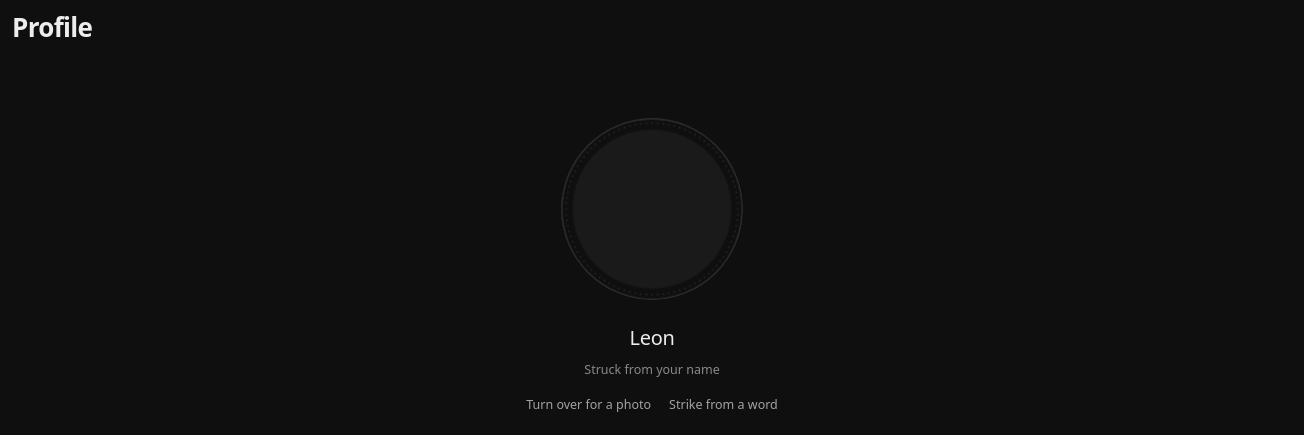
Test: profile settings › explains the tried word on the coin itself behind the "?", only while trying
Click the button "Strike from a word" at {"x": 723, "y": 404}, box [661, 393, 786, 416]
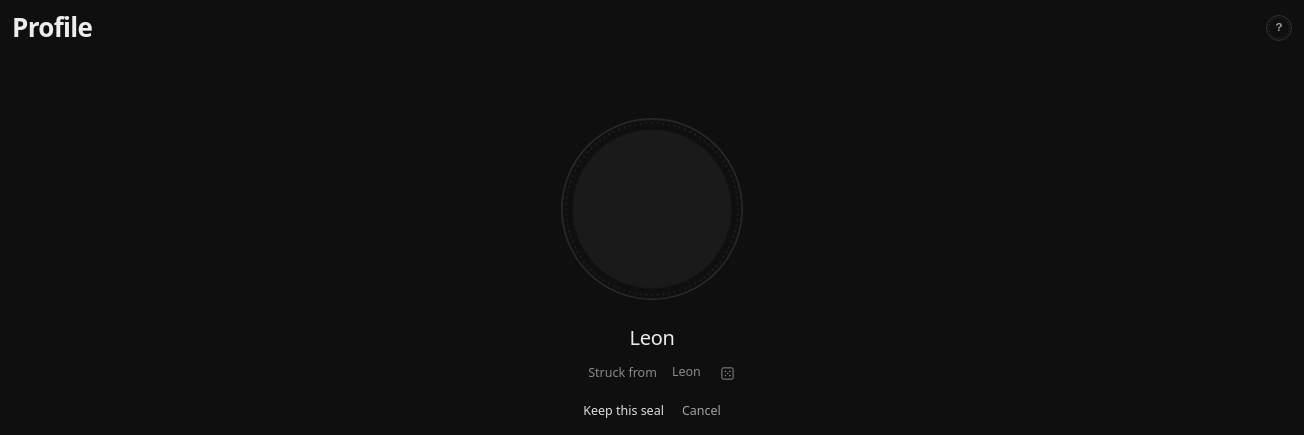
Type "harbor" into the field labelled "Struck from" at {"x": 686, "y": 373}, box [665, 363, 708, 383]
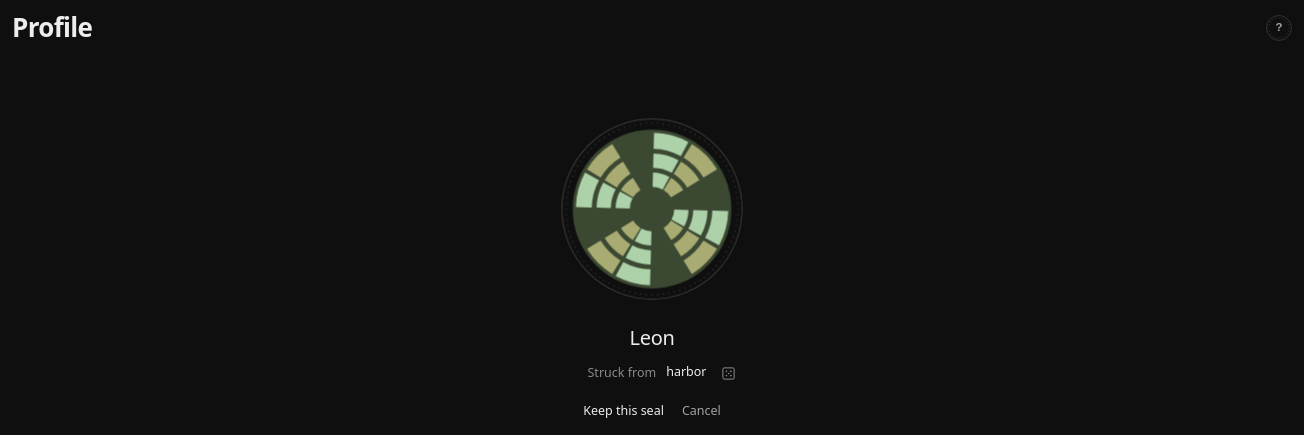
Hover over the button named "How a seal is struck" at {"x": 1279, "y": 28}, box [1266, 15, 1292, 41]
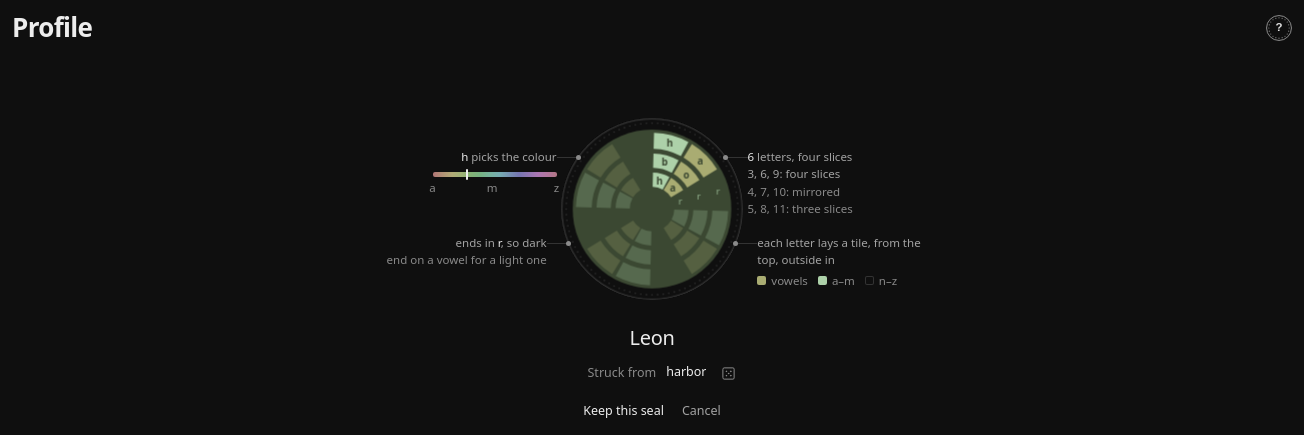
Check: the button named "How a seal is struck" is expanded
Move the pointer off the button named "How a seal is struck", box [1266, 15, 1292, 41]
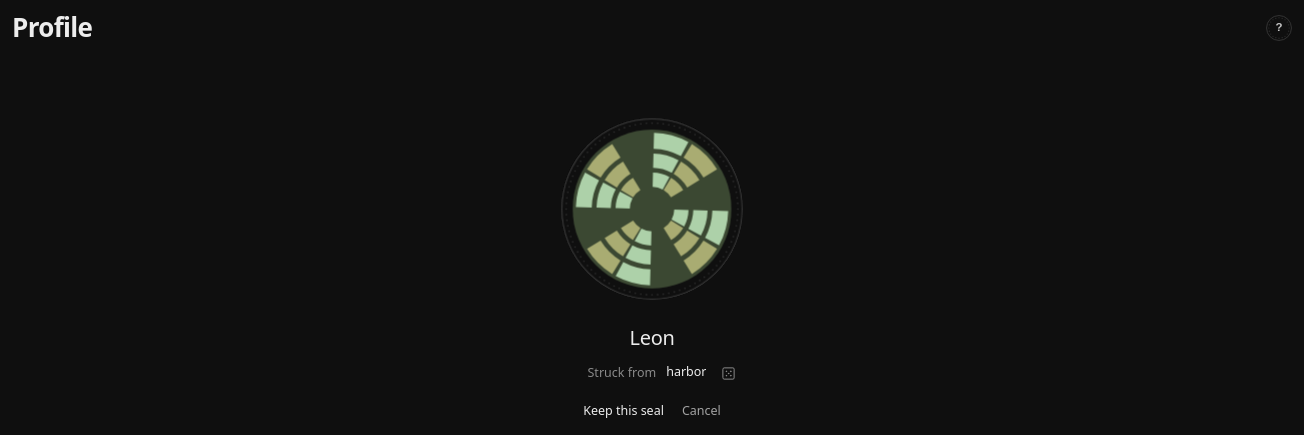
Check: the button named "How a seal is struck" is collapsed
Click the button named "How a seal is struck" at {"x": 1279, "y": 28}, box [1266, 15, 1292, 41]
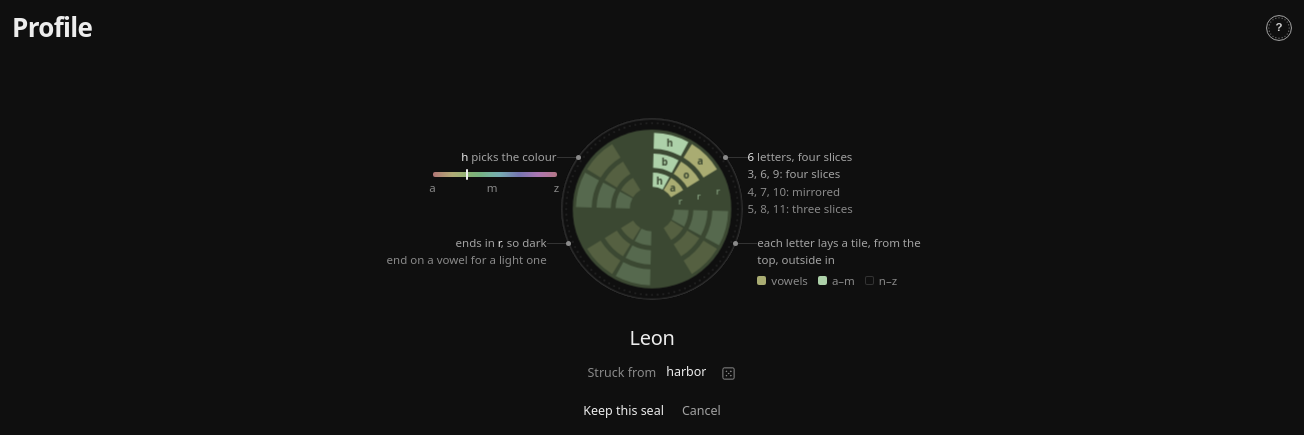
Move the pointer off the button named "How a seal is struck", box [1266, 15, 1292, 41]
Check: the button named "How a seal is struck" is expanded
Press Escape in the button named "How a seal is struck", box [1266, 15, 1292, 41]
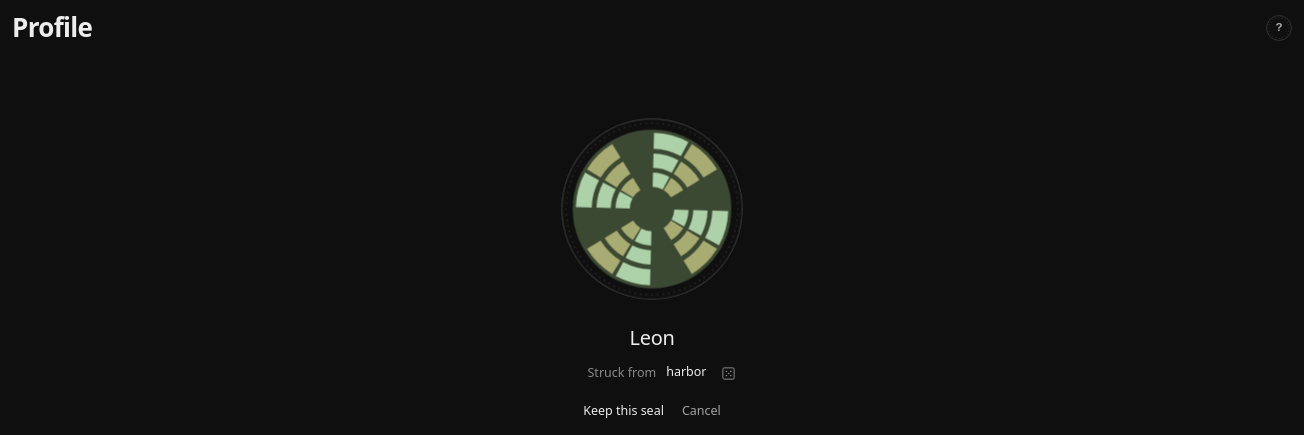
Check: the button named "How a seal is struck" is collapsed, box [1266, 15, 1292, 41]
